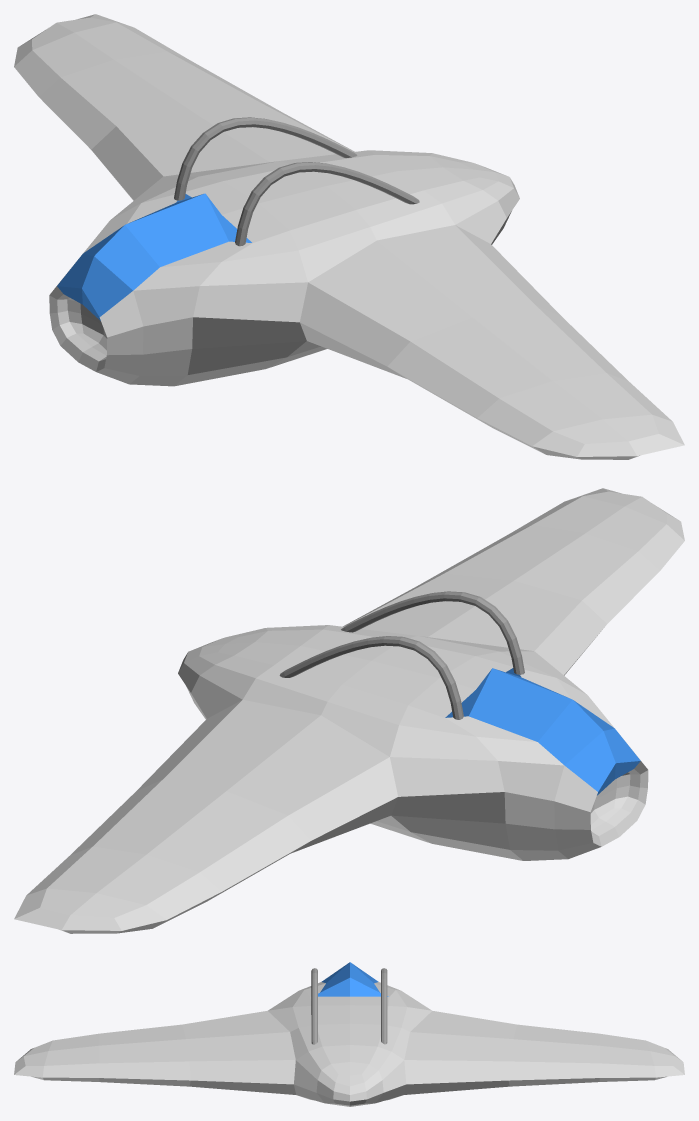
File: Glider Model.fbx
3 views of the same model, one above another, from view 1: azimuth 30°, elevation 25°; view 2: azimuth 150°, elevation 25°; view 3: azimuth 270°, elevation 25° (orthographic). The views are drawn at different scales.
Parts seen in each view (by area): view 1: Glider, Rail1.001, Rail1; view 2: Glider, Rail1, Rail1.001; view 3: Glider, Rail1.001, Rail1.
Boxes of the visible parts, box(x1,y1,x2,y2) form: Glider: box(14, 14, 684, 459); Rail1.001: box(235, 162, 419, 246); Rail1: box(174, 117, 357, 200); Glider: box(14, 488, 684, 933); Rail1: box(279, 636, 463, 719); Rail1.001: box(341, 591, 524, 674); Glider: box(14, 962, 684, 1106); Rail1.001: box(311, 968, 317, 1044); Rail1: box(381, 968, 387, 1044).
Size of the model in its own units: 413 by 184 by 967.
